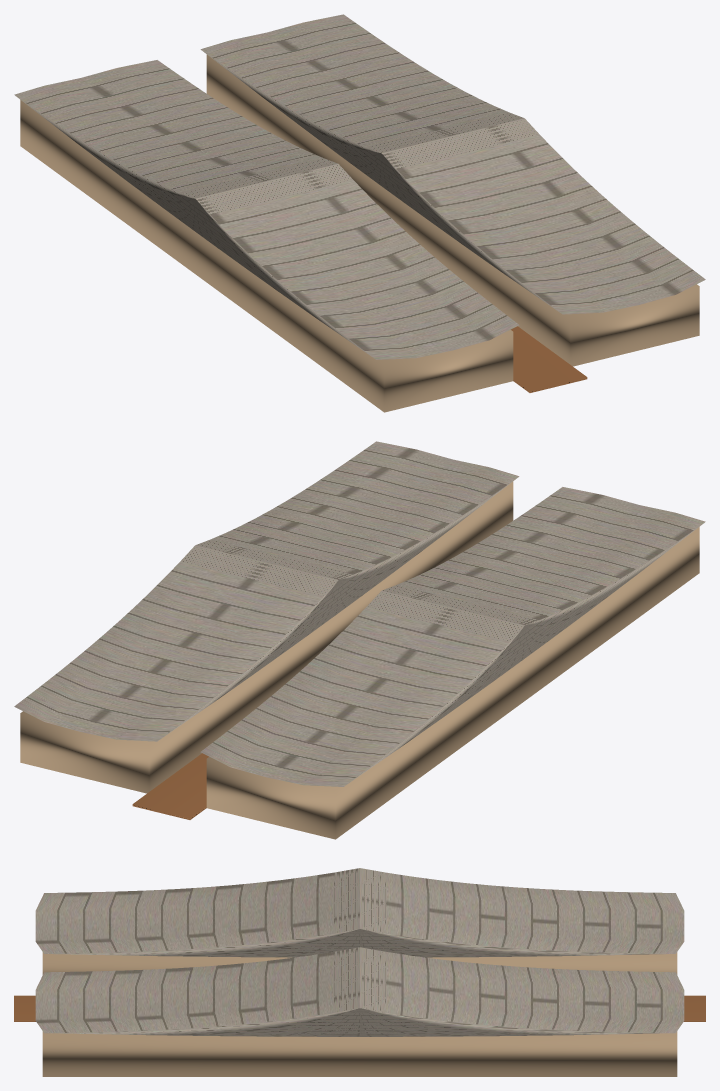
3 views of the same model, one above another, from view 1: azimuth 30°, elevation 25°; view 2: azimuth 150°, elevation 25°; view 3: azimuth 270°, elevation 25° (orthographic). The views are drawn at different scales.
Parts seen in each view (by area): view 1: roof_simplified, taverns_simplified, road_simplified; view 2: roof_simplified, taverns_simplified, road_simplified; view 3: roof_simplified, taverns_simplified, road_simplified.
Part boxes in pixels (left/top/right/bottom): roof_simplified: left=14, top=14, right=705, bottom=359; taverns_simplified: left=20, top=54, right=699, bottom=412; road_simplified: left=511, top=326, right=587, bottom=392; roof_simplified: left=14, top=441, right=705, bottom=786; taverns_simplified: left=20, top=481, right=699, bottom=839; road_simplified: left=132, top=753, right=208, bottom=819; roof_simplified: left=35, top=868, right=684, bottom=1036; taverns_simplified: left=42, top=952, right=677, bottom=1076; road_simplified: left=14, top=995, right=705, bottom=1021.
Bounding box in the file's own units: 23 × 5.5 × 48.
3 materials, 3 textured.
